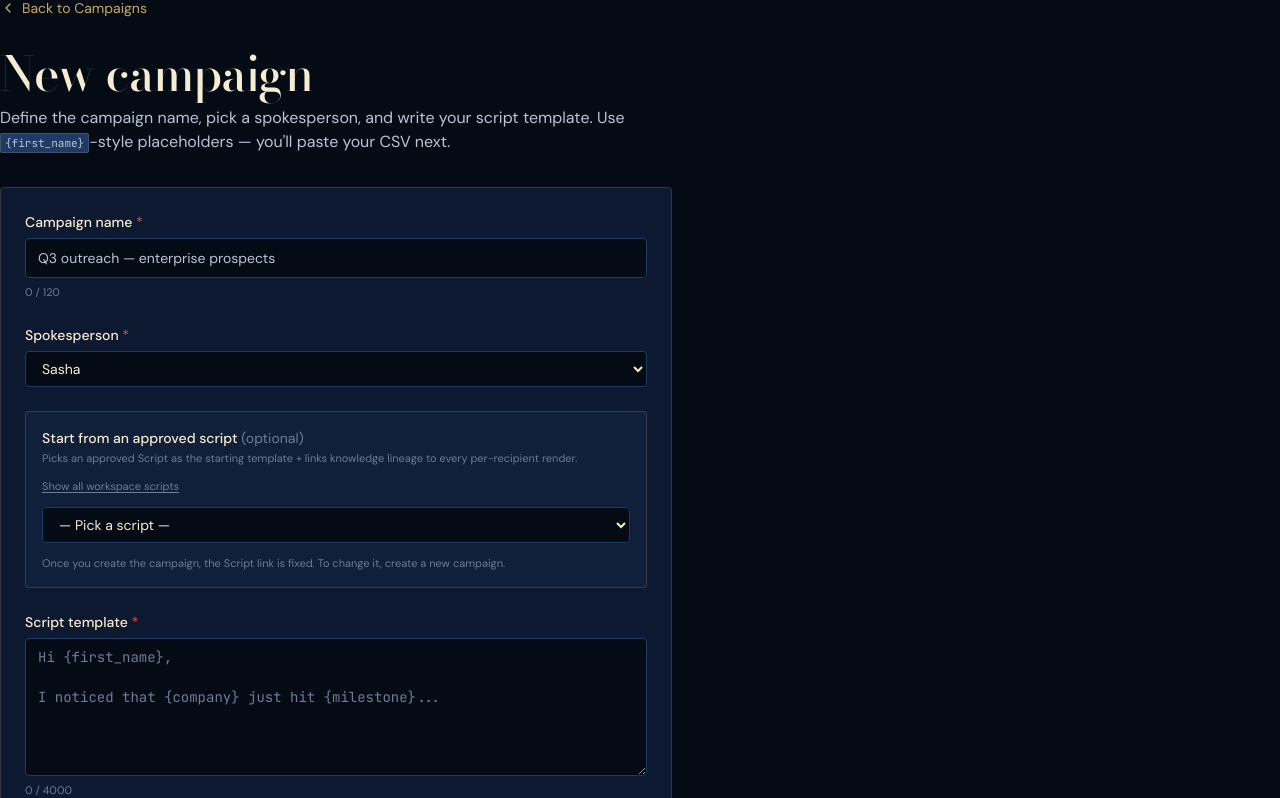
Test case: CampaignNewRoute BC4 — Script picker › backend 400 source_script_not_ready surfaces inline error
Type "My Campaign" into the field with test id "campaign-name-input" at (336, 258), box [25, 238, 647, 278]
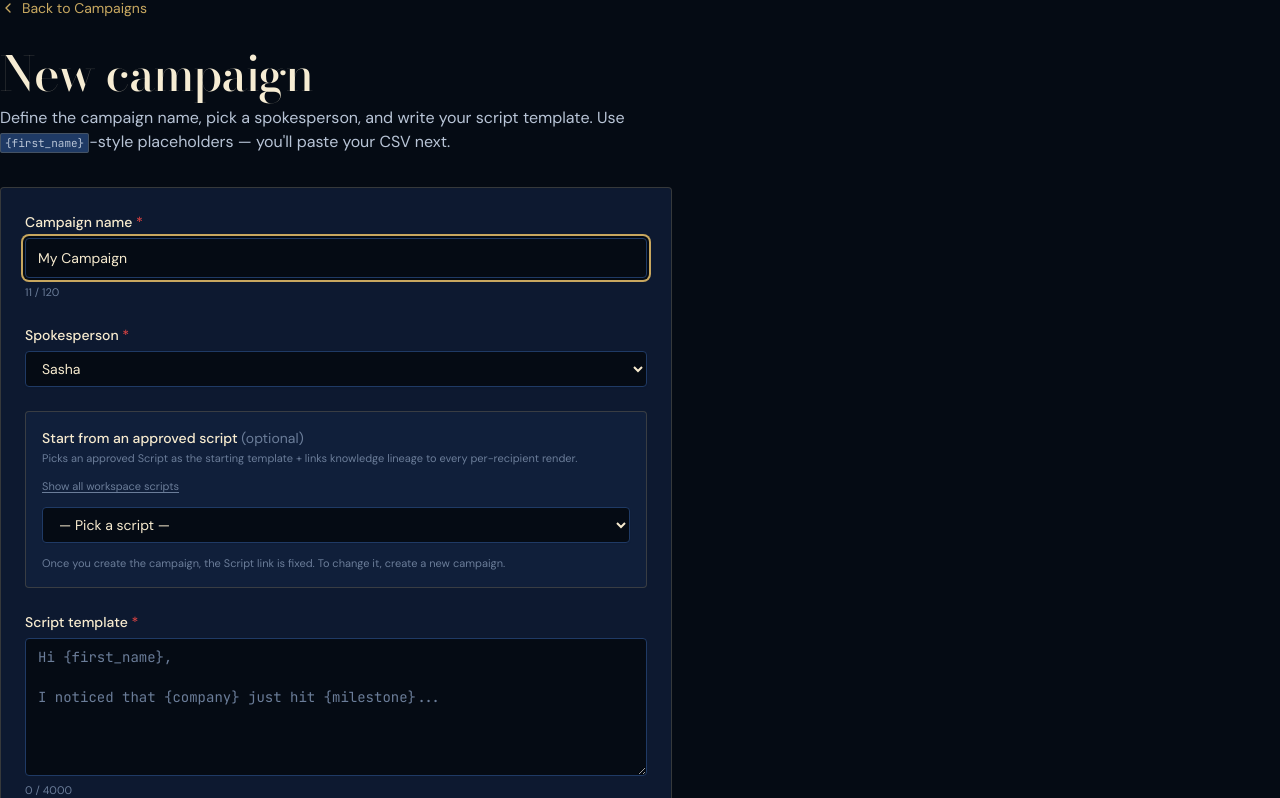
# Pick script + use as template
Select "Five Good Emperors (Sasha)" in the dropdown with test id "script-picker-select" at (336, 524), box [42, 506, 630, 542]
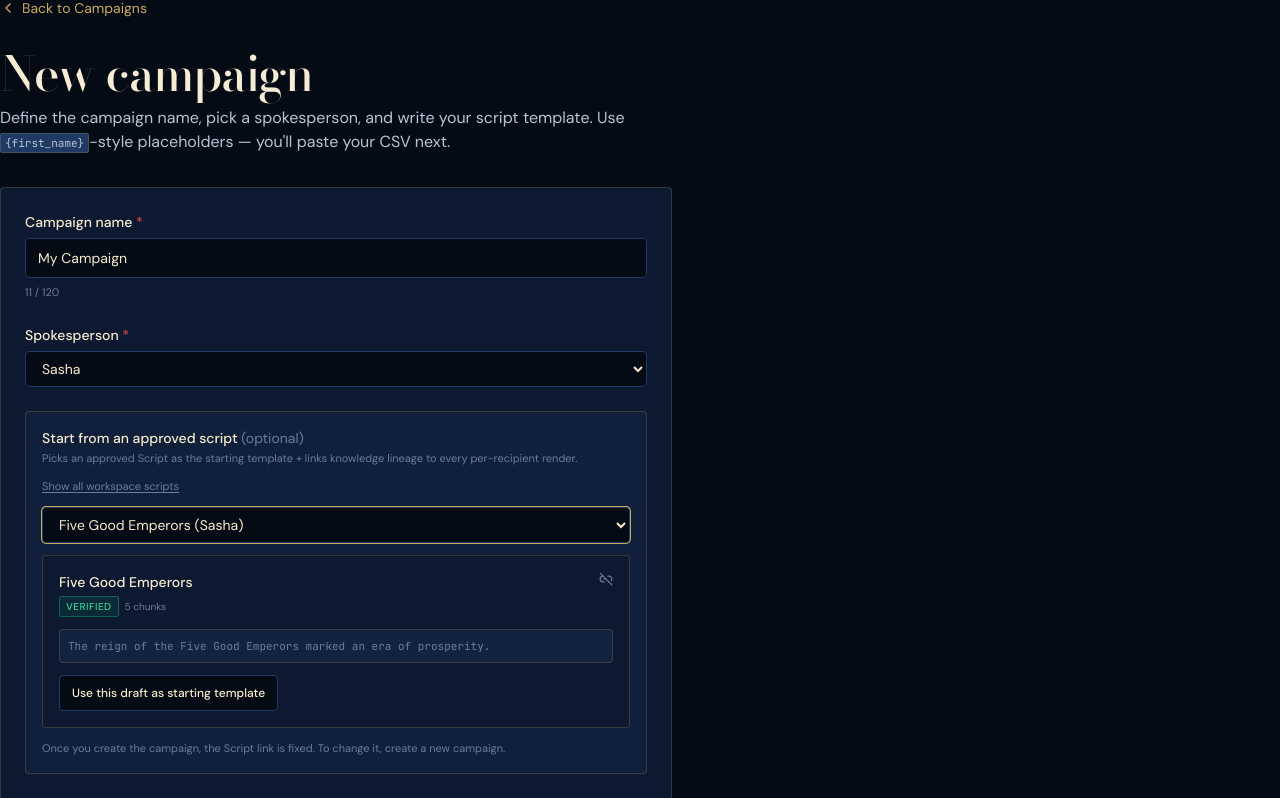
Expected: the button with test id "script-use-as-template-btn" is shown
Click the button with test id "script-use-as-template-btn" at (169, 693), box [59, 675, 278, 711]
(page scrolled)
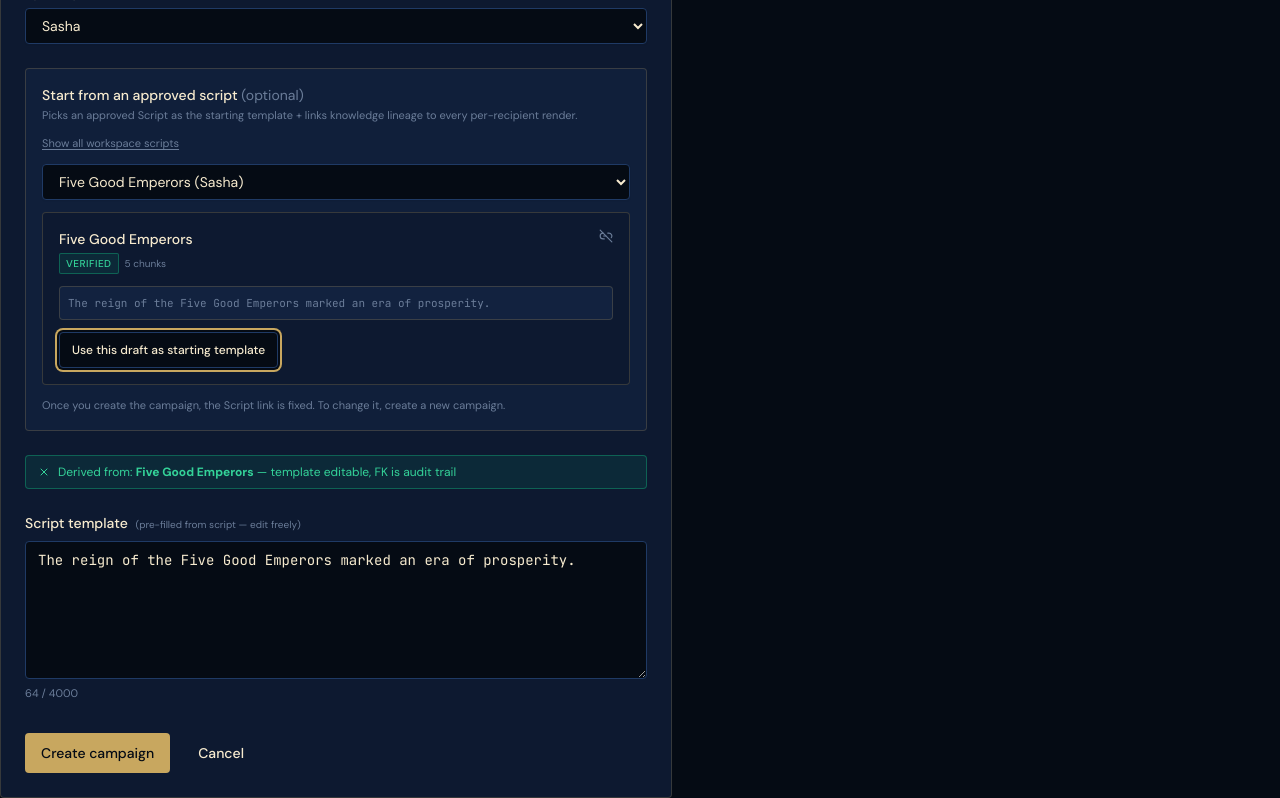
Click the button with test id "campaign-create-submit" at (98, 753), box [25, 733, 170, 773]
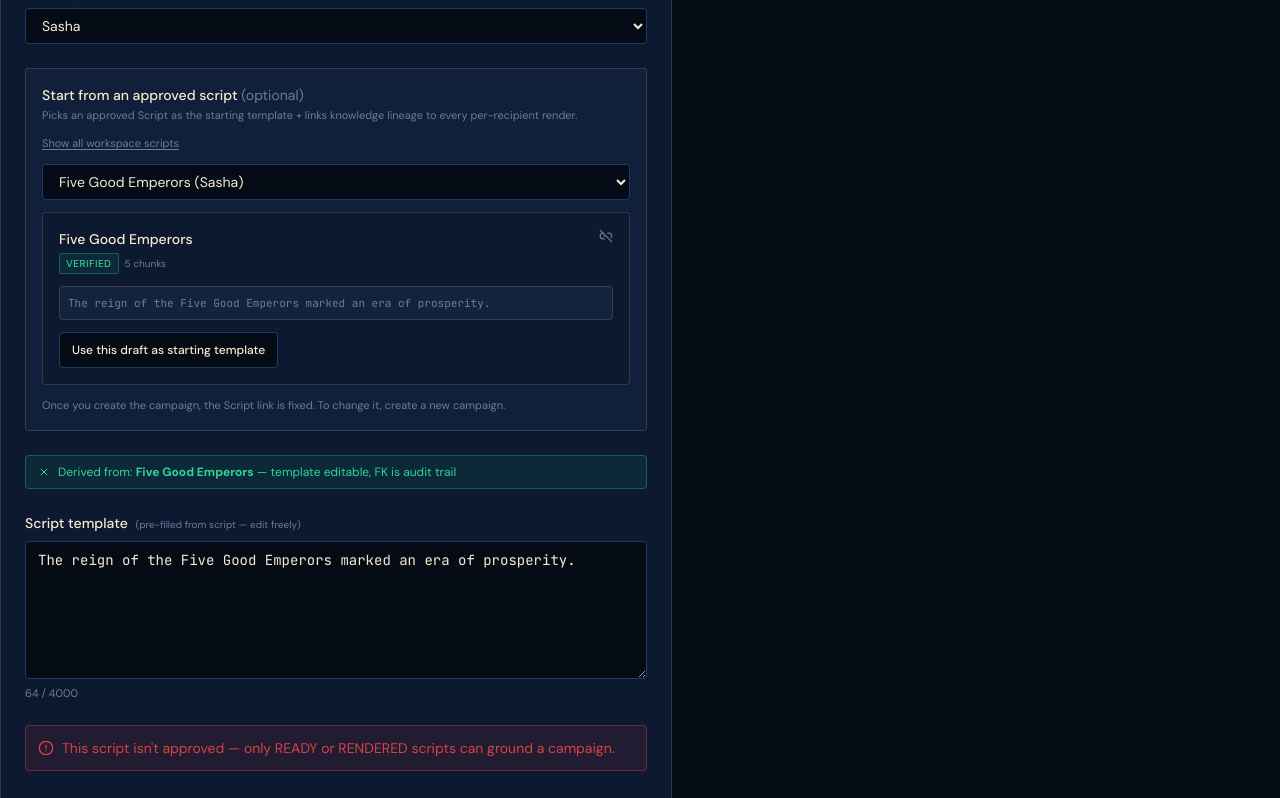
Expected: the element with test id "campaign-submit-error" is shown, [25, 725, 647, 771]
Expected: the element with test id "campaign-submit-error" shows "only READY or RENDERED scripts can ground a campaign", [62, 739, 614, 757]
